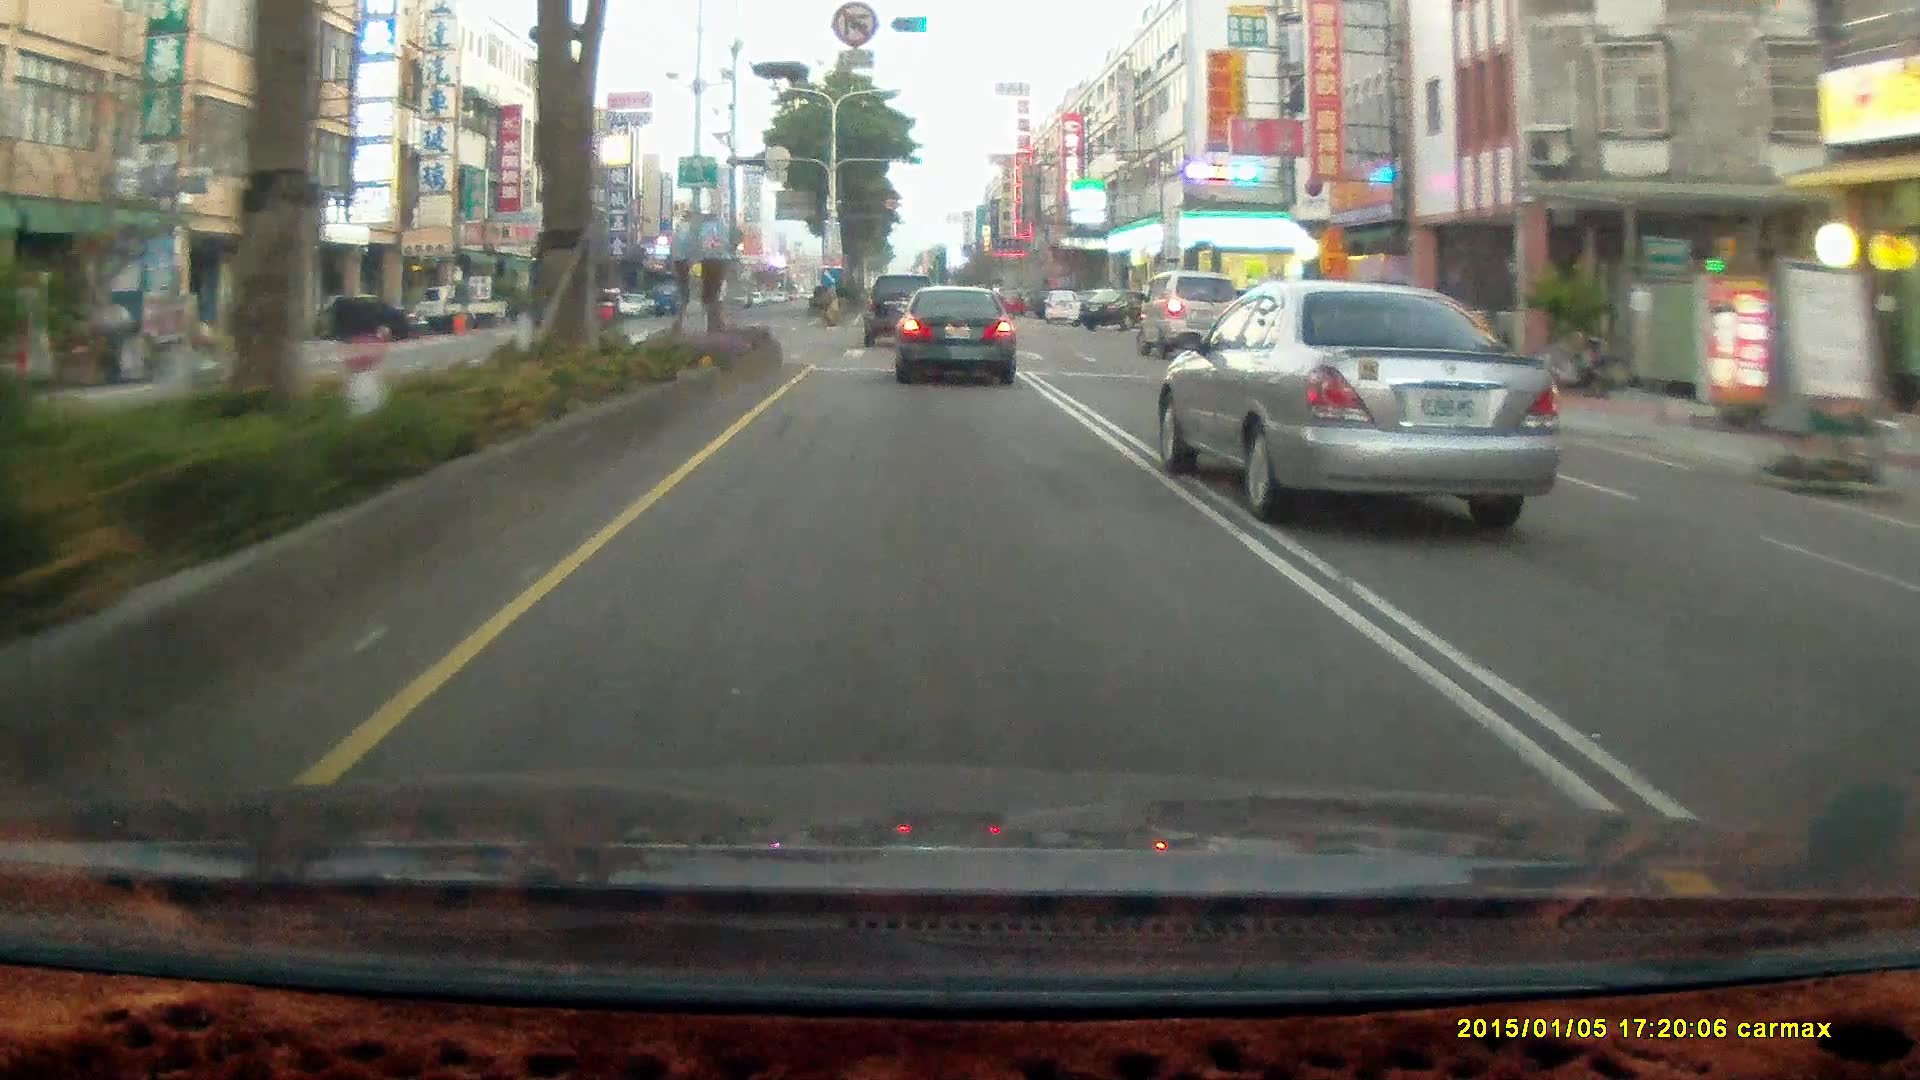vehicle: (1162, 280, 1577, 525), (897, 284, 1021, 388), (891, 284, 1014, 386), (1138, 270, 1242, 363), (1138, 268, 1241, 360), (297, 291, 426, 349), (291, 293, 422, 342), (862, 273, 942, 351), (862, 273, 939, 345), (413, 286, 510, 338), (407, 284, 504, 331), (1080, 286, 1155, 328), (1040, 286, 1083, 320)
